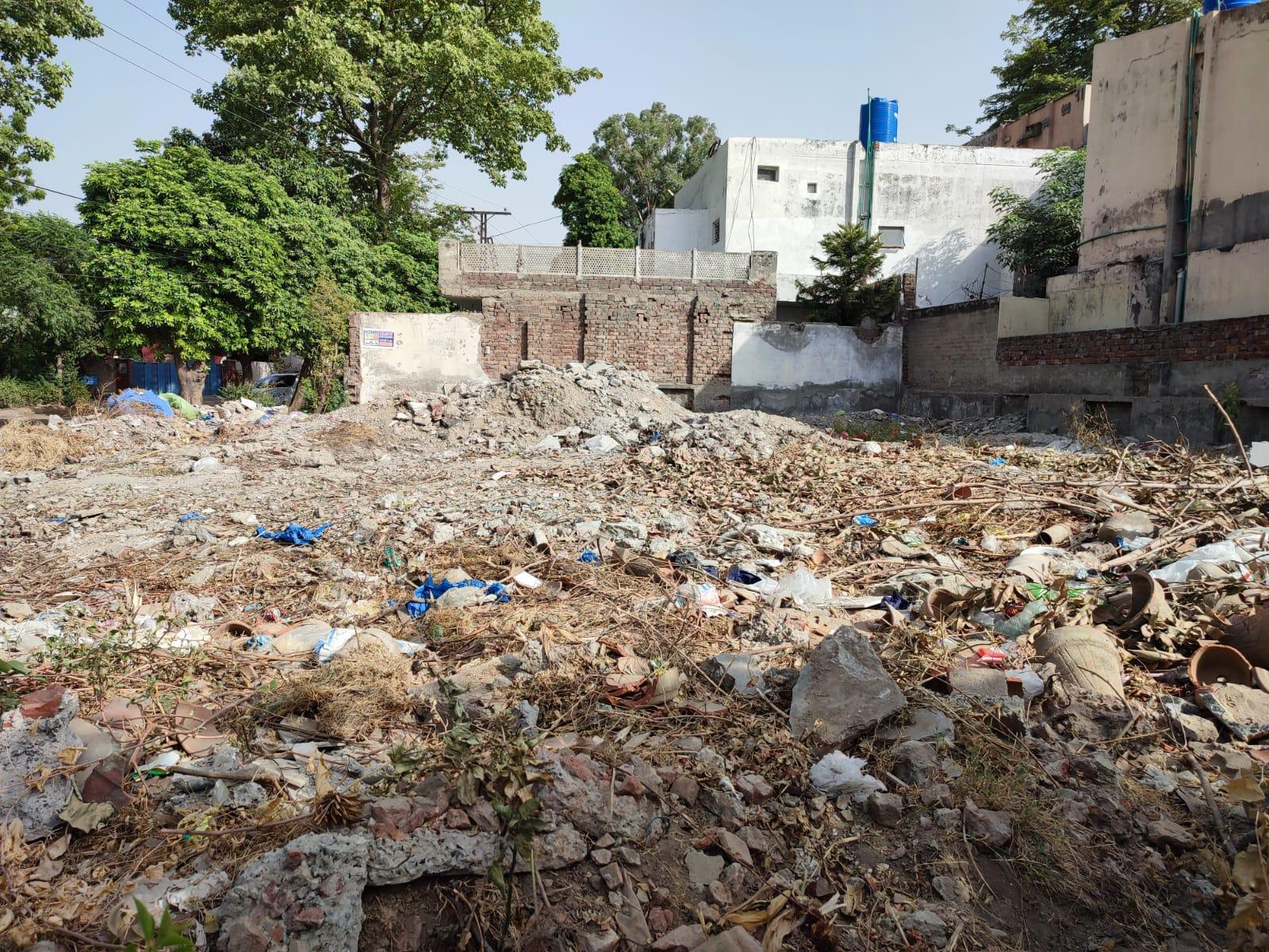garbage: (191, 421, 1269, 887)
